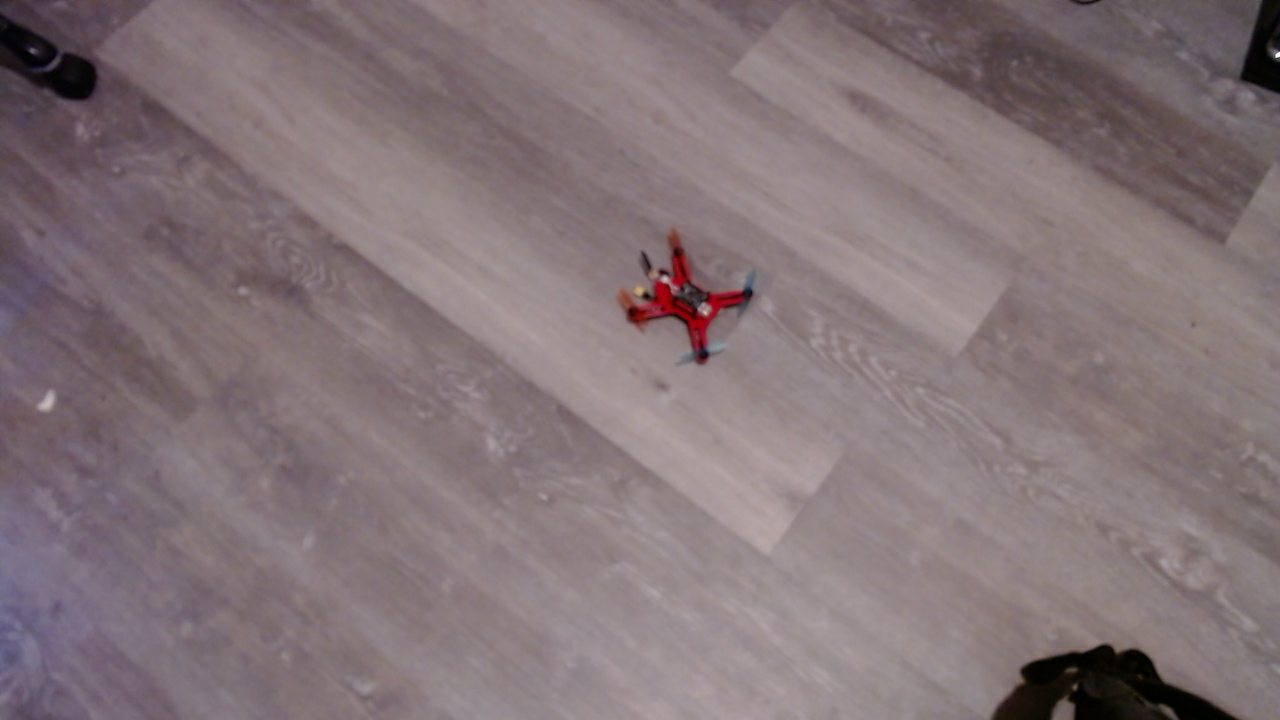crazyflie: (614, 229, 768, 380)
